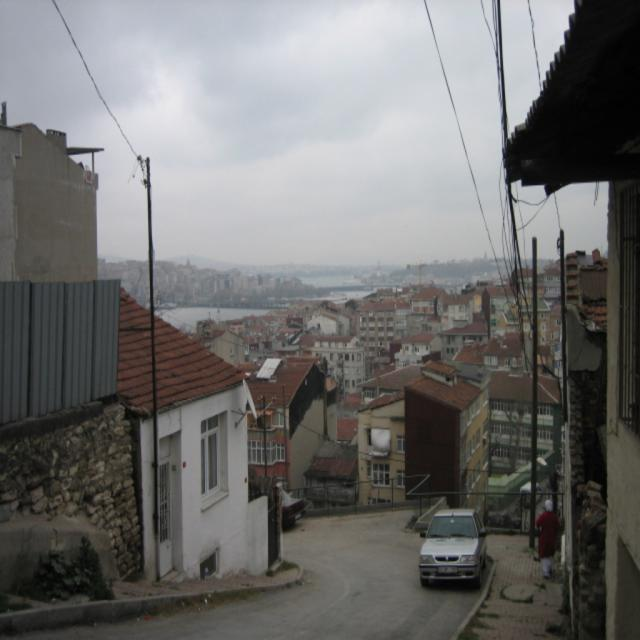car: (418, 509, 486, 590)
